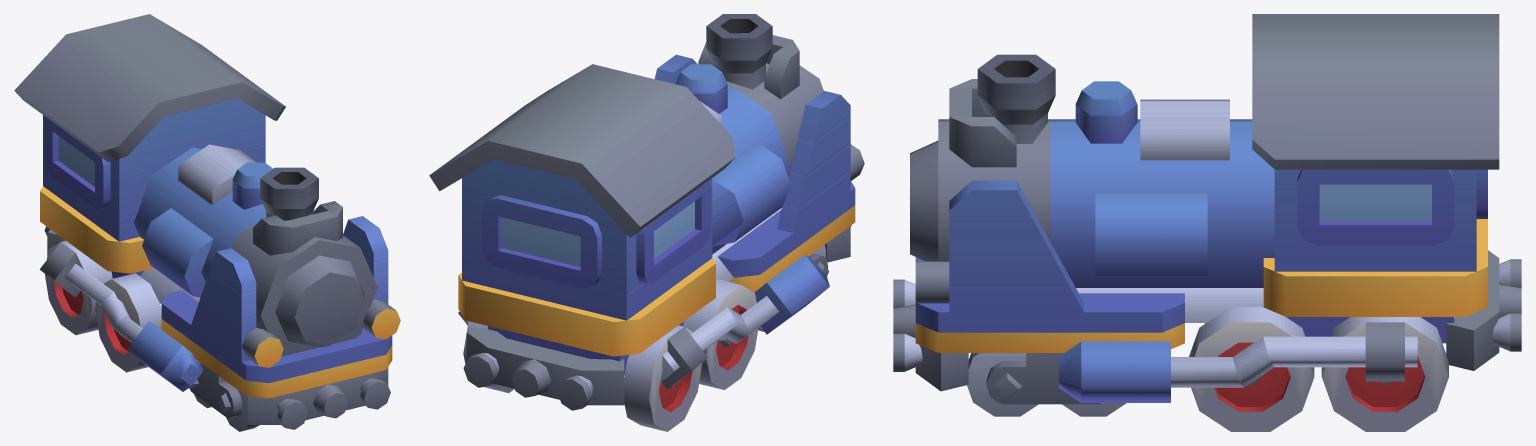
Rendered from train-locomotive-c.glb.
3 renders of one model, left to right at view 1: azimuth 30°, elevation 25°; view 2: azimuth 150°, elevation 25°; view 3: azimuth 270°, elevation 25°, orthographic. The views are drawn at different scales.
Parts seen in each view (by area): view 1: train-locomotive-c, wheel (×2), wheels-front; view 2: train-locomotive-c, wheel (×2); view 3: train-locomotive-c, wheel (×2), wheels-front.
Boxes of the visible parts, left/top/right/bottom form: train-locomotive-c: left=14, top=14, right=400, bottom=429; wheel (×2): left=45, top=240, right=161, bottom=372; wheels-front: left=189, top=363, right=259, bottom=431; train-locomotive-c: left=429, top=14, right=864, bottom=410; wheel (×2): left=624, top=279, right=758, bottom=431; train-locomotive-c: left=893, top=14, right=1521, bottom=402; wheel (×2): left=1189, top=307, right=1448, bottom=431; wheels-front: left=967, top=353, right=1126, bottom=416.
Size of the model in its own units: 1.43 by 1.66 by 2.8.
1 material, 1 textured.
